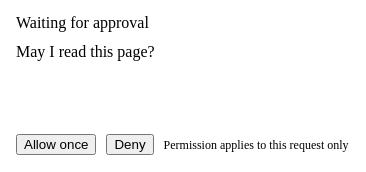
it: a rejected permission answer becomes answerable again without a second automatic choice
Later steps or results of the test are not shown.
Click the button "Allow once" at (56, 144), box [16,134,96,155]
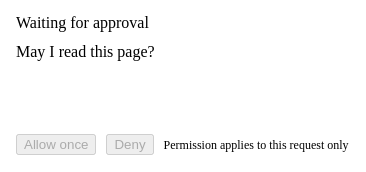
Click the button "Allow once" at (56, 144), box [16,134,96,155]
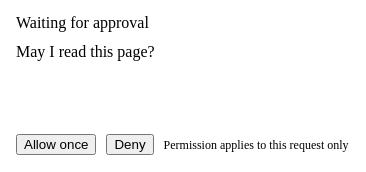
Expected: the button "Allow once" is enabled, [16,134,96,155]
